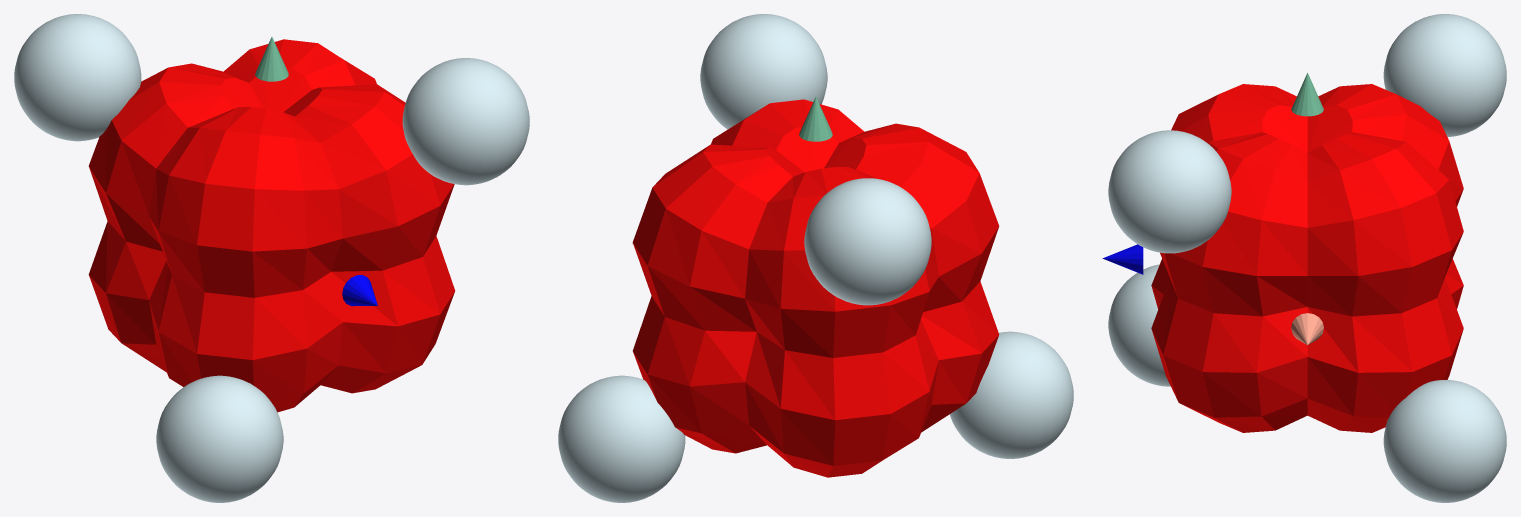
The picture shows the model from 3 angles, left to right: view 1: azimuth 30°, elevation 25°; view 2: azimuth 150°, elevation 25°; view 3: azimuth 270°, elevation 25°; orthographic projection. The views are drawn at different scales.
Parts seen in each view (by area): view 1: Renderer Node (×2); view 2: Renderer Node (×2); view 3: Renderer Node (×2).
Part boxes in pixels (x1,y1,x2,y2): Renderer Node (×2): [14, 14, 529, 502]; Renderer Node (×2): [558, 14, 1073, 502]; Renderer Node (×2): [1102, 14, 1506, 502].
Size of the model in its own units: 1.97 by 1.97 by 1.97.
